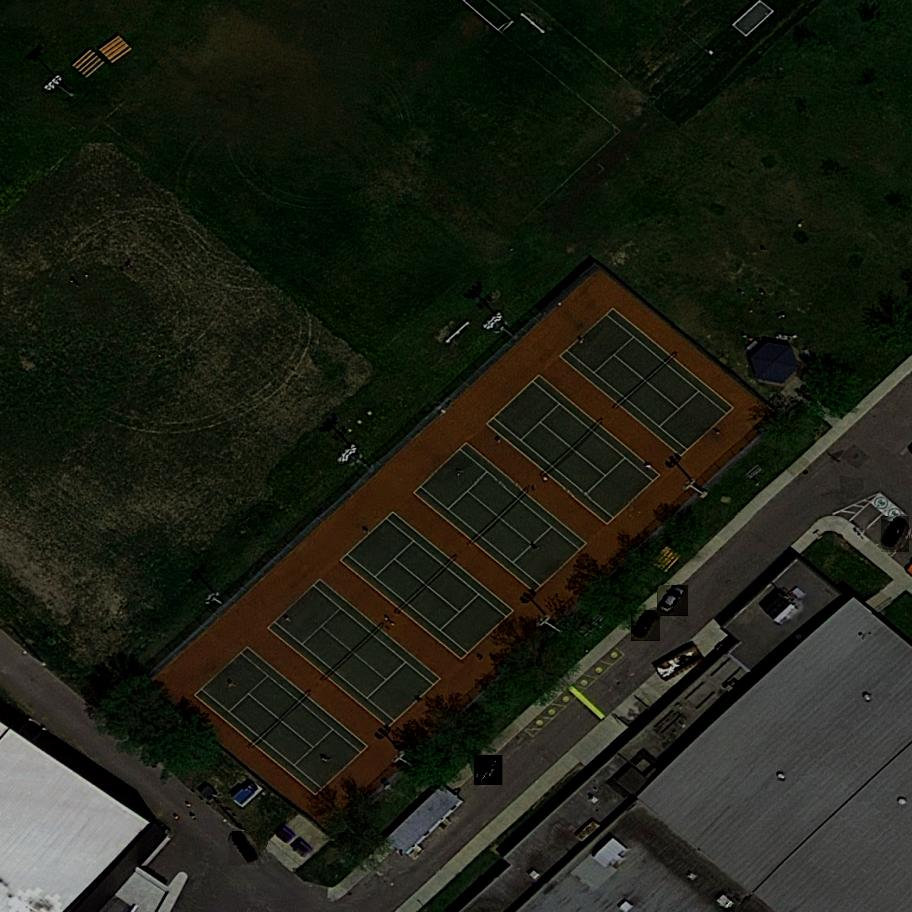small-vehicle: (229, 830, 261, 868), (881, 516, 909, 554), (659, 584, 689, 619), (474, 754, 504, 788), (632, 610, 660, 644)
